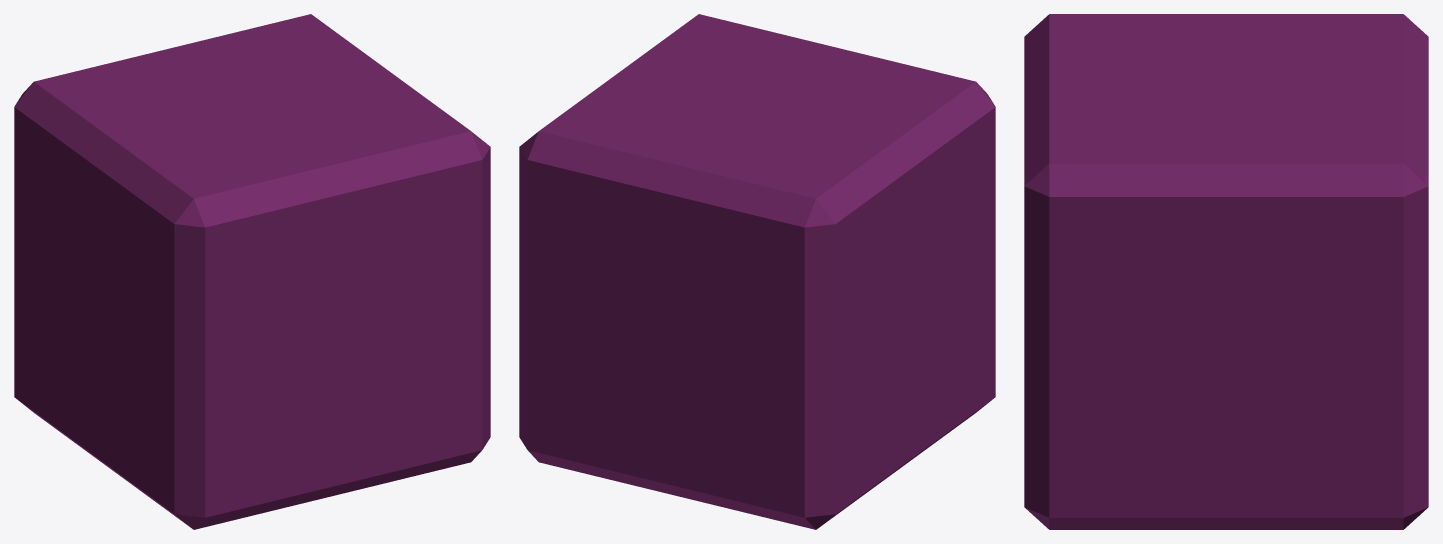
File: Pink Cube.glb
3 renders of one model, left to right at view 1: azimuth 30°, elevation 25°; view 2: azimuth 150°, elevation 25°; view 3: azimuth 270°, elevation 25°, orthographic. The views are drawn at different scales.
Visible parts, largest first — view 1: Pink Cube; view 2: Pink Cube; view 3: Pink Cube.
Part boxes in pixels (bbox=[...]): Pink Cube: bbox=[14, 14, 490, 529]; Pink Cube: bbox=[519, 14, 995, 529]; Pink Cube: bbox=[1024, 14, 1428, 529].
Size of the model in its own units: 0.1876 by 0.1876 by 0.1876.
